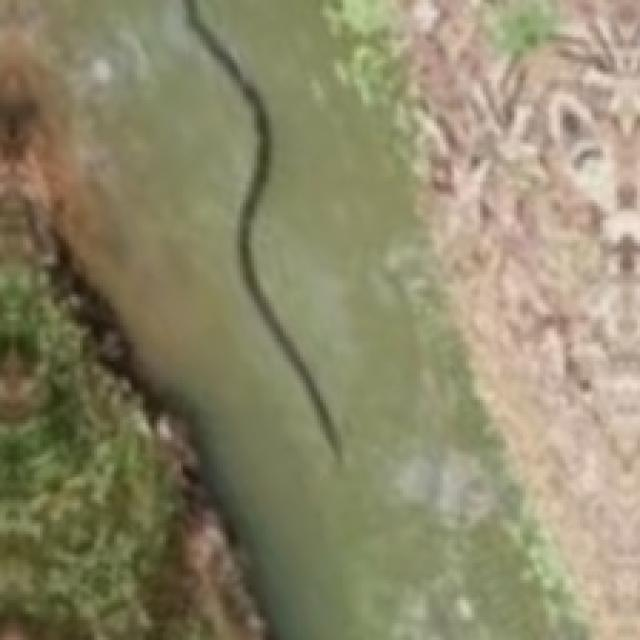king cobra: (183, 0, 340, 463)
